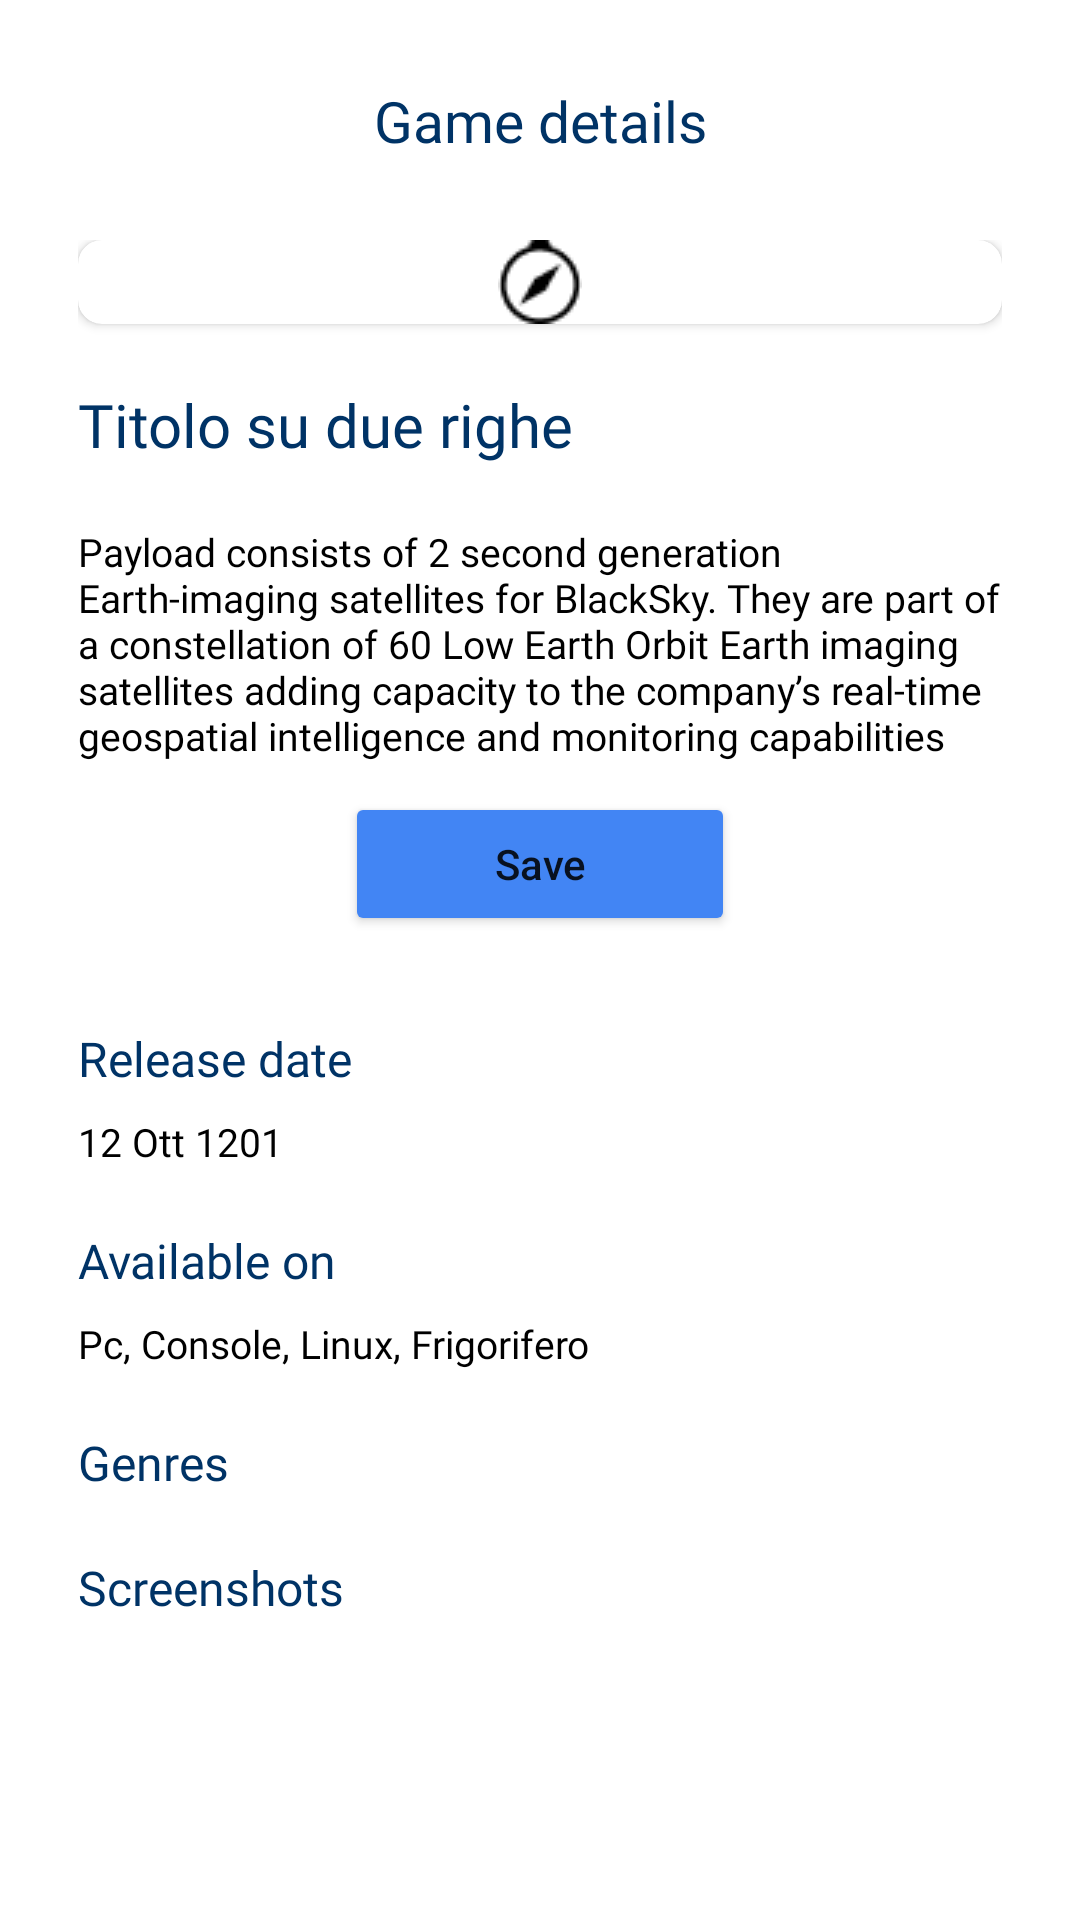

Icon click points for this 1080 x 1920 phone screenshot, format [x,y]:
compass: [540,282]
